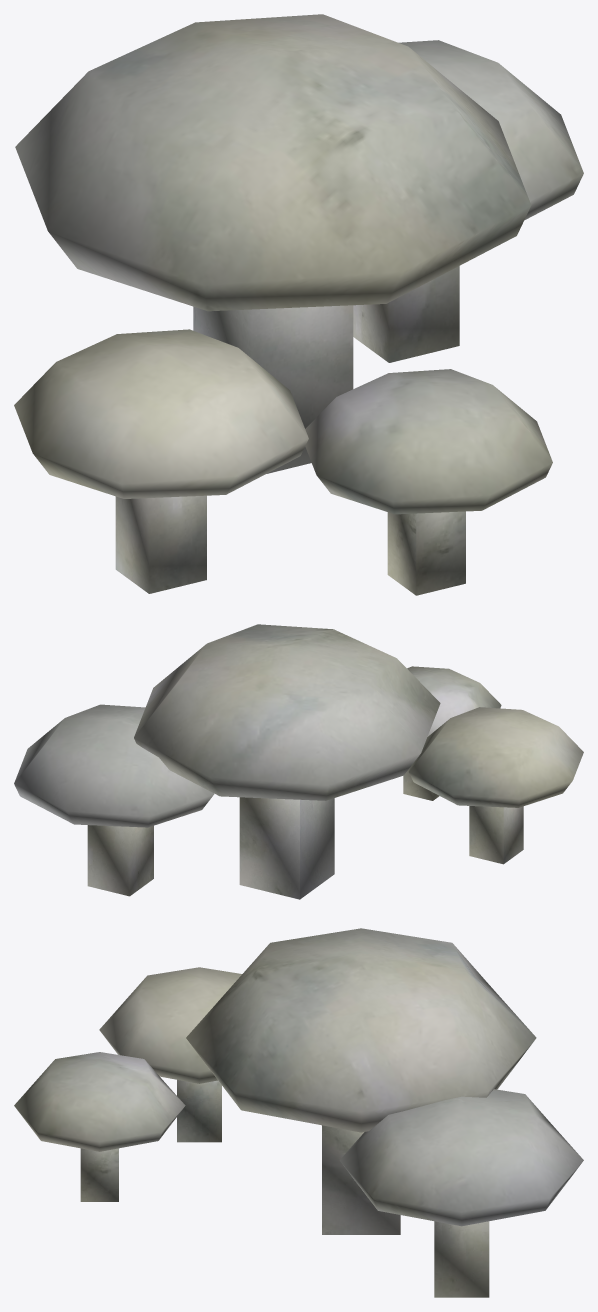
File: CHAMPIS.glb
3 views of the same model, one above another, from view 1: azimuth 30°, elevation 25°; view 2: azimuth 150°, elevation 25°; view 3: azimuth 270°, elevation 25° (orthographic). The views are drawn at different scales.
Parts seen in each view (by area): view 1: Cube.005, Cube.008, Cube.007, Cube.006; view 2: Cube.005, Cube.006, Cube.008, Cube.007; view 3: Cube.005, Cube.006, Cube.007, Cube.008.
Boxes of the visible parts, left/top/right/bottom form: Cube.005: left=15, top=14, right=531, bottom=473; Cube.008: left=14, top=329, right=308, bottom=593; Cube.007: left=305, top=369, right=552, bottom=595; Cube.006: left=353, top=40, right=583, bottom=362; Cube.005: left=134, top=624, right=440, bottom=899; Cube.006: left=14, top=704, right=214, bottom=896; Cube.008: left=409, top=707, right=583, bottom=864; Cube.007: left=403, top=666, right=501, bottom=800; Cube.005: left=186, top=928, right=536, bottom=1234; Cube.006: left=339, top=1089, right=583, bottom=1297; Cube.007: left=14, top=1052, right=185, bottom=1201; Cube.008: left=99, top=967, right=241, bottom=1142.
Size of the model in its own units: 1.88 by 0.9747 by 1.91.
Materials: 1 (1 with a texture image).
